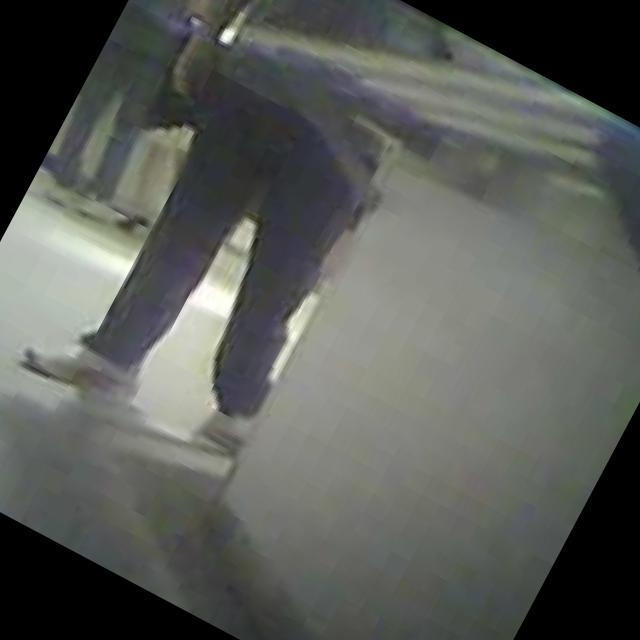person: (11, 0, 467, 481), (35, 0, 265, 215)
